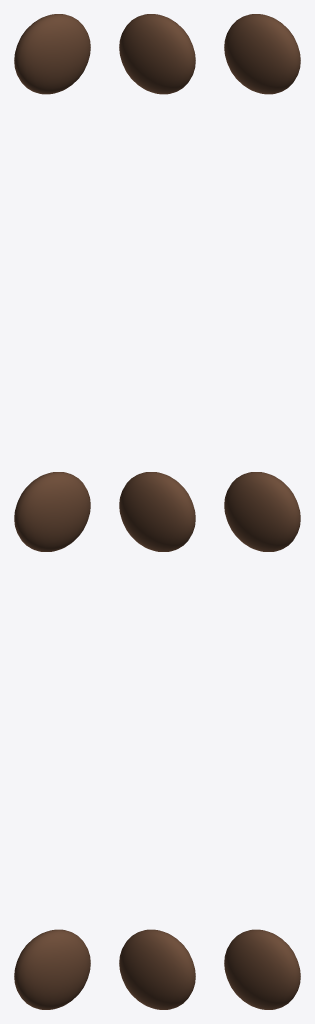
File: CardiganButtons.fbx
3 views of the same model, side by side, from view 1: azimuth 30°, elevation 25°; view 2: azimuth 150°, elevation 25°; view 3: azimuth 330°, elevation 25° (orthographic).
Parts seen in each view (by area): view 1: HornCardiganButton, HornCardiganButton.002, HornCardiganButton.001; view 2: HornCardiganButton, HornCardiganButton.002, HornCardiganButton.001; view 3: HornCardiganButton, HornCardiganButton.002, HornCardiganButton.001.
Part boxes in pixels (x1,y1,x2,y2): HornCardiganButton: (14, 929, 90, 1009); HornCardiganButton.002: (14, 14, 90, 94); HornCardiganButton.001: (14, 472, 90, 551); HornCardiganButton: (119, 929, 195, 1009); HornCardiganButton.002: (119, 14, 195, 94); HornCardiganButton.001: (119, 472, 195, 551); HornCardiganButton: (224, 929, 300, 1009); HornCardiganButton.002: (224, 14, 300, 94); HornCardiganButton.001: (224, 472, 300, 551).
Size of the model in its own units: 1.6 by 20.6 by 0.8.
